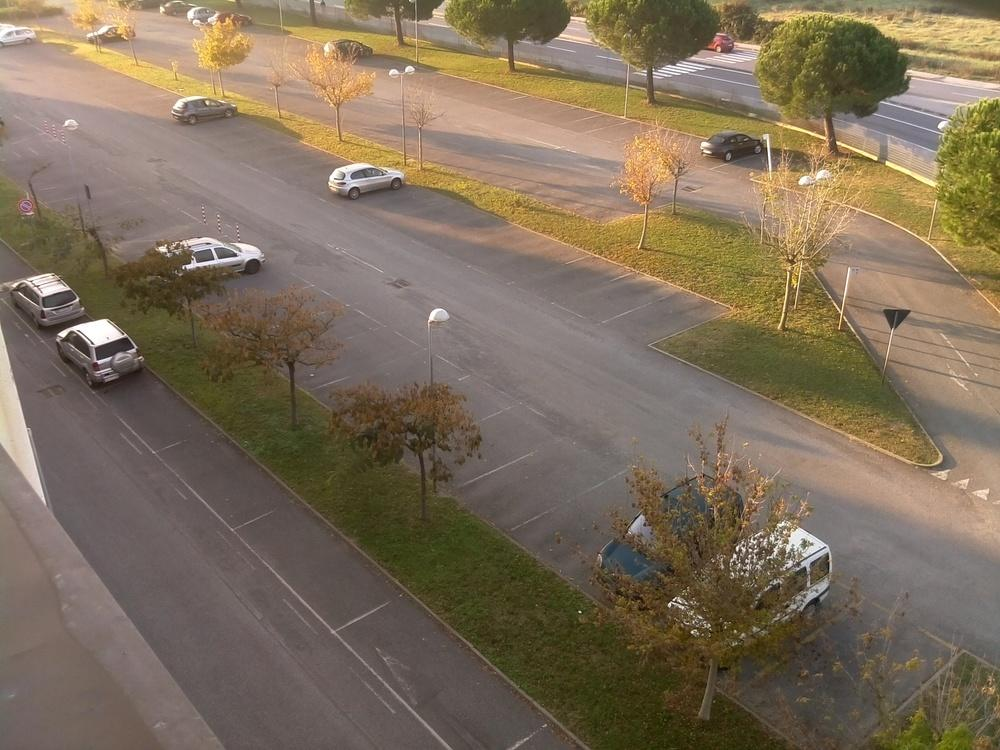empty: (718, 528, 832, 611), (58, 320, 148, 386), (160, 238, 268, 281), (11, 277, 95, 328), (319, 163, 411, 202), (697, 129, 774, 164), (170, 96, 239, 128), (320, 36, 379, 61), (82, 27, 137, 48), (2, 24, 38, 48)
occupied: (794, 644, 903, 722), (410, 654, 498, 713), (173, 449, 248, 501), (556, 503, 627, 550), (467, 422, 538, 463), (276, 534, 344, 576), (116, 390, 176, 432), (510, 468, 578, 503), (373, 363, 432, 400), (448, 380, 502, 419), (608, 310, 677, 340), (588, 279, 648, 313), (553, 256, 603, 290), (331, 344, 384, 374), (237, 271, 290, 299), (197, 117, 251, 143), (252, 147, 319, 167), (438, 218, 490, 243), (227, 130, 279, 154), (511, 253, 554, 280), (133, 89, 189, 109), (467, 236, 511, 259), (32, 51, 80, 72), (589, 194, 626, 221), (103, 79, 150, 98), (412, 211, 452, 231), (68, 63, 118, 79), (594, 123, 637, 141), (570, 114, 601, 134), (546, 100, 571, 121), (462, 79, 487, 96), (498, 87, 520, 99)
